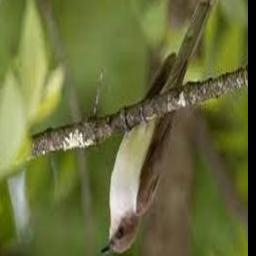Cuckoo: (99, 0, 227, 256)
